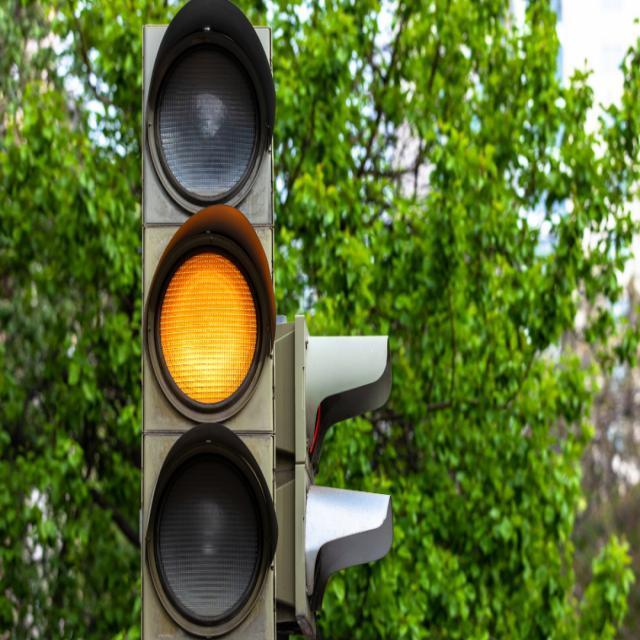yellow_light: (139, 0, 275, 639)
